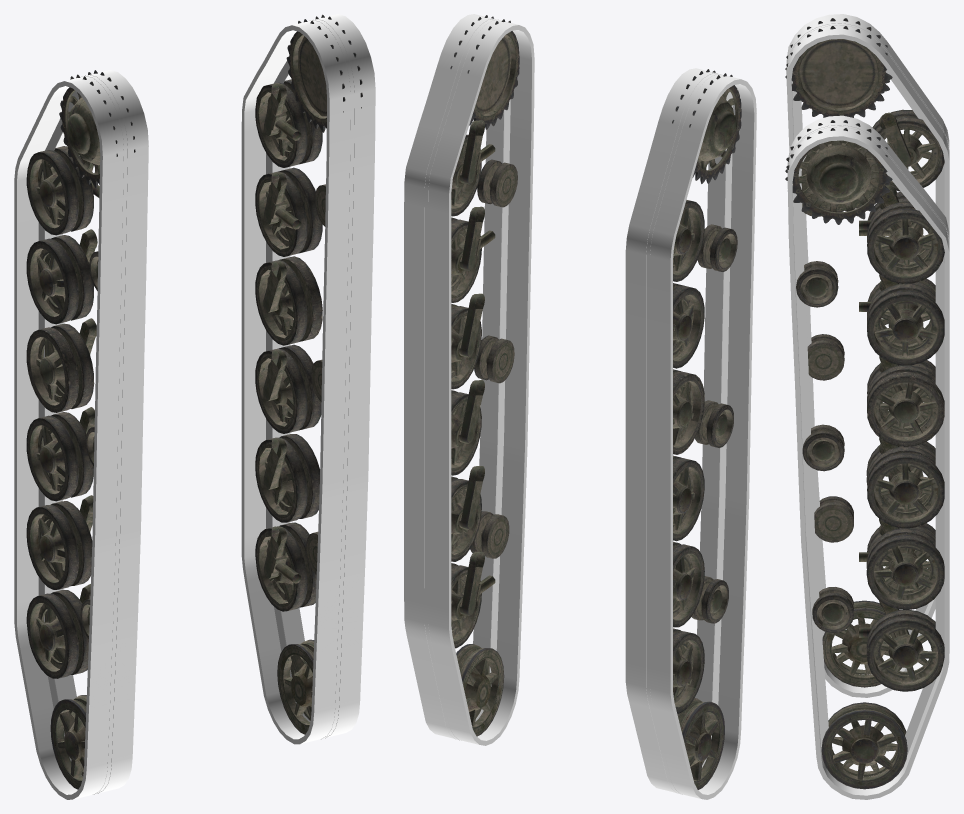
Rendered from Chassis.glb.
The picture shows the model from 3 angles, left to right: view 1: azimuth 30°, elevation 25°; view 2: azimuth 150°, elevation 25°; view 3: azimuth 270°, elevation 25°; orthographic projection. The views are drawn at different scales.
Visible parts, largest first — view 1: set_1_group_0, set_0_group_0, set_2_group_0, set_3_group_0; view 2: set_0_group_0, set_1_group_0, set_3_group_0, set_2_group_0; view 3: set_3_group_0, set_1_group_0, set_2_group_0, set_0_group_0.
Boxes of the visible parts, x1,y1,x2,y2 form: set_1_group_0: (241, 14, 375, 744); set_0_group_0: (14, 70, 148, 799); set_2_group_0: (26, 70, 135, 789); set_3_group_0: (255, 14, 362, 734); set_0_group_0: (625, 68, 756, 799); set_1_group_0: (404, 14, 534, 745); set_3_group_0: (450, 15, 519, 736); set_2_group_0: (672, 69, 741, 789); set_3_group_0: (785, 120, 944, 789); set_1_group_0: (787, 115, 949, 799); set_2_group_0: (785, 18, 944, 687); set_0_group_0: (786, 14, 949, 697).
Size of the model in its own units: 2.27 by 5.72 by 1.28.
Materials: 4 (2 with a texture image).
